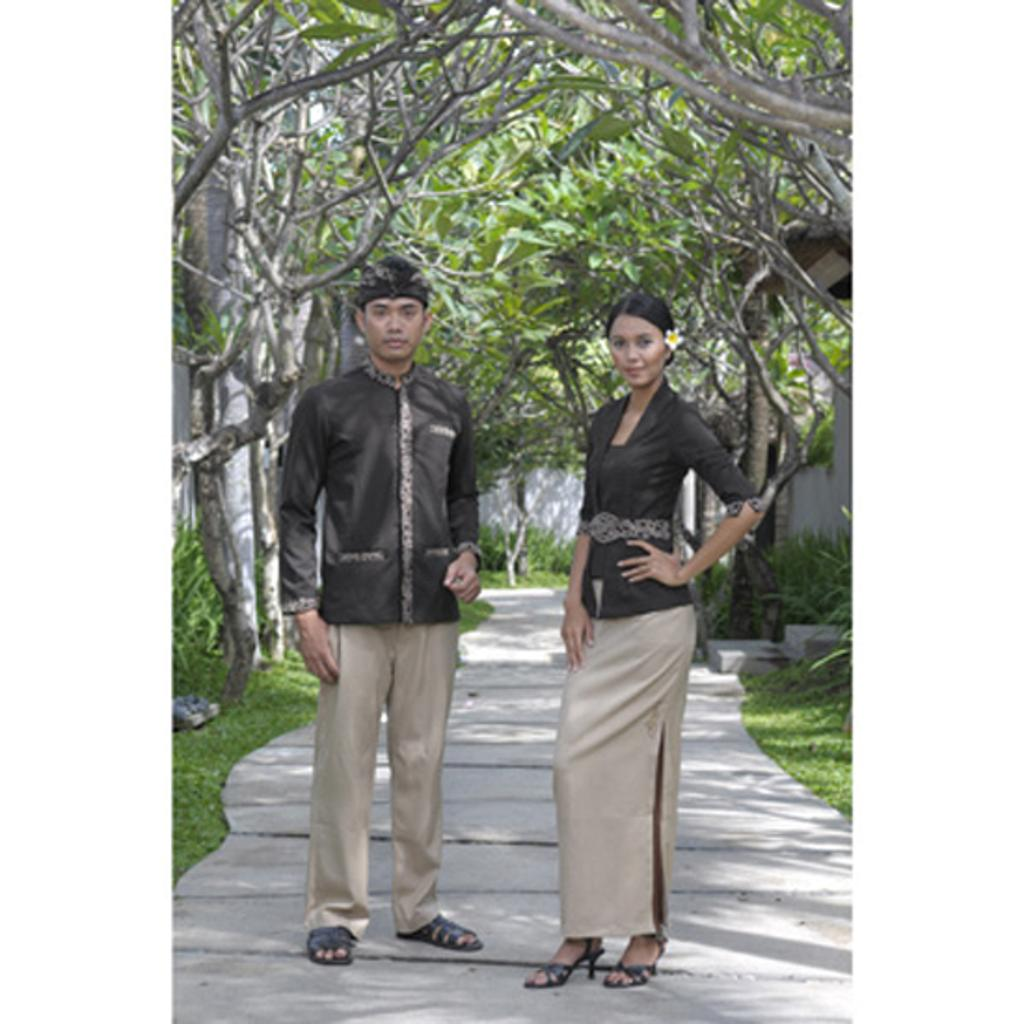face: (360, 284, 420, 354), (608, 318, 660, 380)
